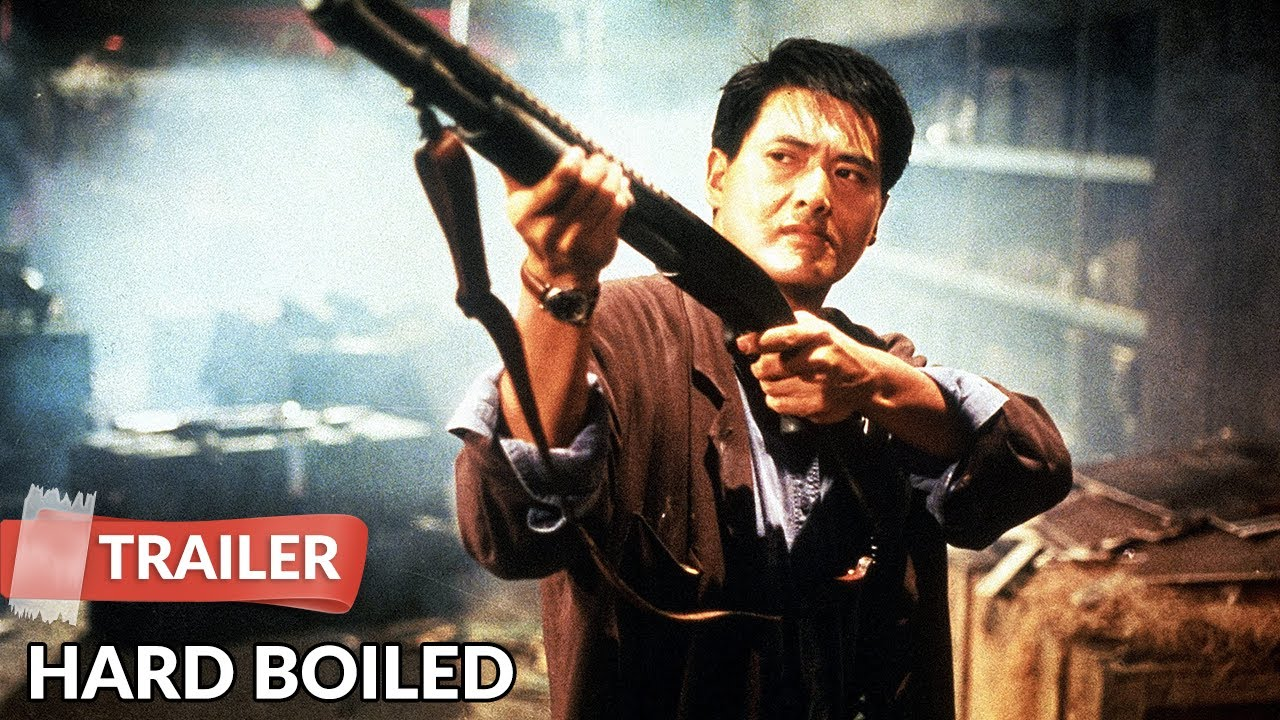gun: (263, 5, 900, 411)
